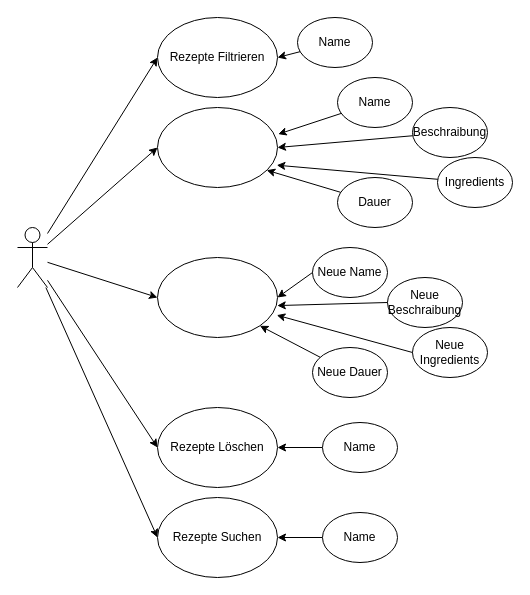
This 530x595 diagram has some shape labels left out. The shapes that lost their labels are listed below. From the top down, each one's box as (x1, y1, x2, y2) in pixels, then its label:
(156, 106, 278, 188): Rezepte Einfügen
(16, 226, 48, 288): User
(156, 256, 278, 338): Rezepte Änderen
